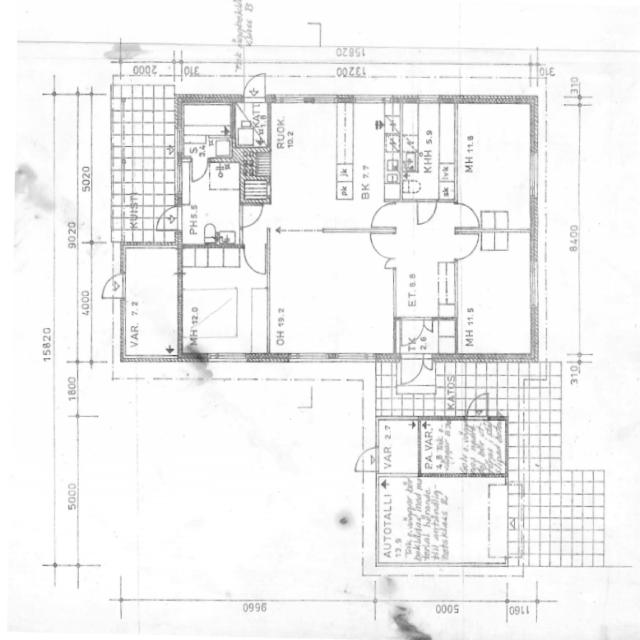door: (129, 364, 373, 640), (452, 228, 484, 263), (462, 389, 493, 425), (367, 228, 398, 263), (242, 240, 270, 278), (398, 352, 427, 387), (368, 200, 398, 232), (397, 315, 428, 345), (453, 199, 482, 231), (412, 197, 440, 229), (352, 446, 381, 476), (238, 202, 266, 230), (242, 72, 268, 102), (100, 274, 125, 301), (188, 156, 210, 184), (417, 316, 437, 340), (419, 352, 435, 377)
window: (205, 350, 252, 372), (286, 349, 332, 366), (414, 92, 443, 106)
zone: (133, 372, 367, 640), (268, 228, 392, 358), (372, 472, 516, 571), (454, 229, 536, 360), (453, 98, 534, 230), (179, 242, 267, 360), (272, 99, 352, 227), (124, 245, 180, 361), (392, 225, 457, 318), (398, 98, 456, 200), (419, 415, 506, 477), (183, 160, 242, 247), (180, 97, 233, 160), (376, 417, 421, 477), (233, 99, 269, 155)
